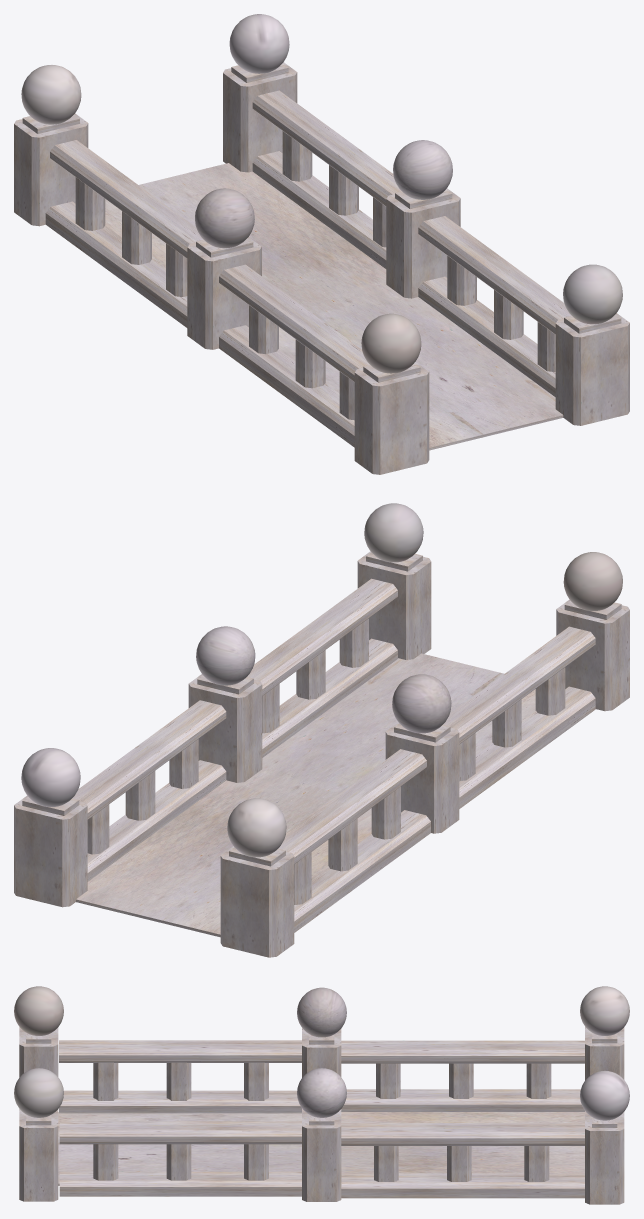
The model's file is Stone Bridge.FBX.
3 renders of one model, top to bottom at view 1: azimuth 30°, elevation 25°; view 2: azimuth 150°, elevation 25°; view 3: azimuth 270°, elevation 25°, orthographic. The views are drawn at different scales.
Visible parts, largest first — view 1: Box04; view 2: Box04; view 3: Box04.
Part boxes in pixels (bbox=[...]): Box04: bbox=[14, 14, 629, 474]; Box04: bbox=[14, 503, 629, 957]; Box04: bbox=[14, 986, 629, 1204].
Size of the model in its own units: 54.16 by 131 by 28.1.
